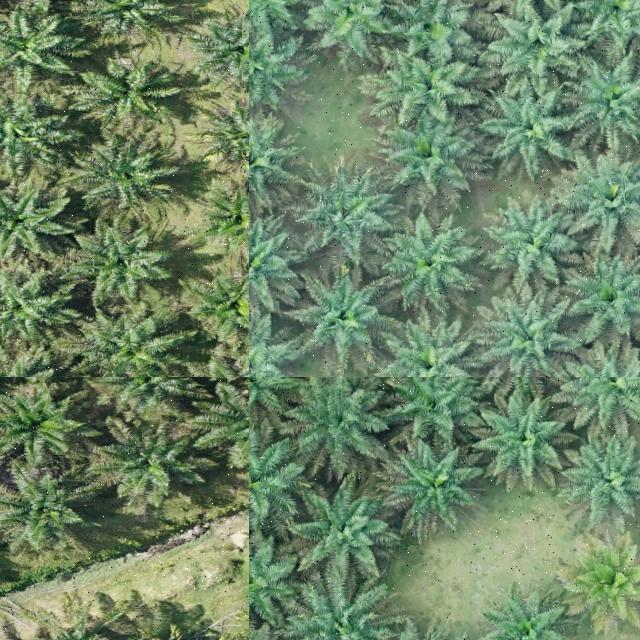Ganoderma: (577, 546, 640, 608)
